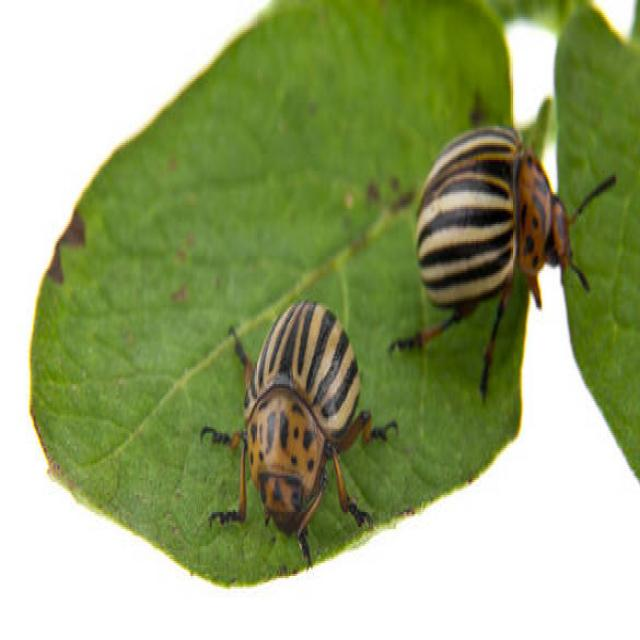ShuCaiHuaBanChong-Grown-: (401, 121, 577, 346), (236, 272, 362, 548)
